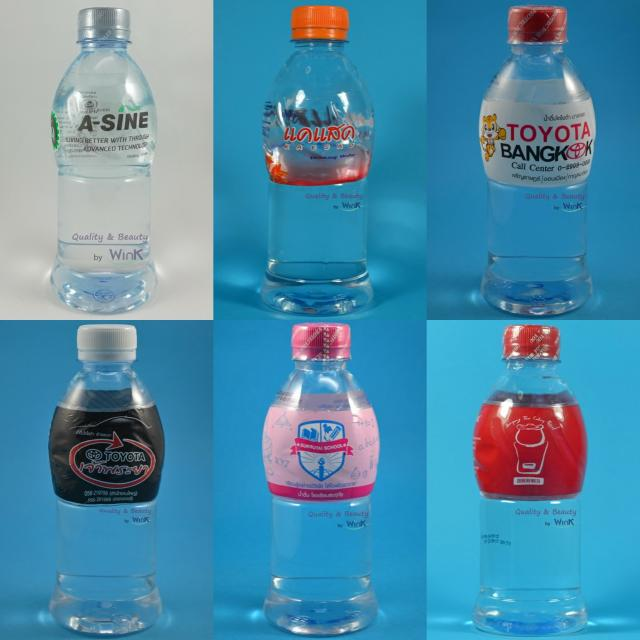plastik: (262, 323, 380, 635), (479, 5, 596, 315), (49, 324, 165, 634), (472, 325, 588, 635), (261, 6, 374, 315), (50, 8, 158, 313)
